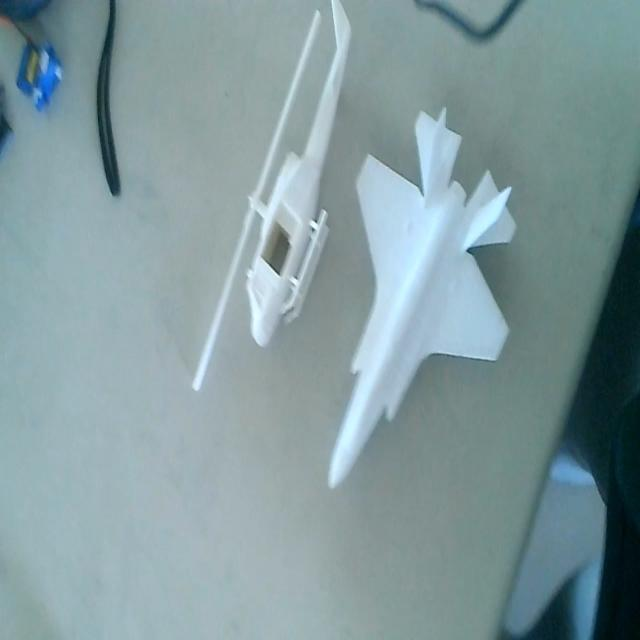Helicopter: (192, 2, 354, 388)
Jet: (324, 109, 522, 500)
